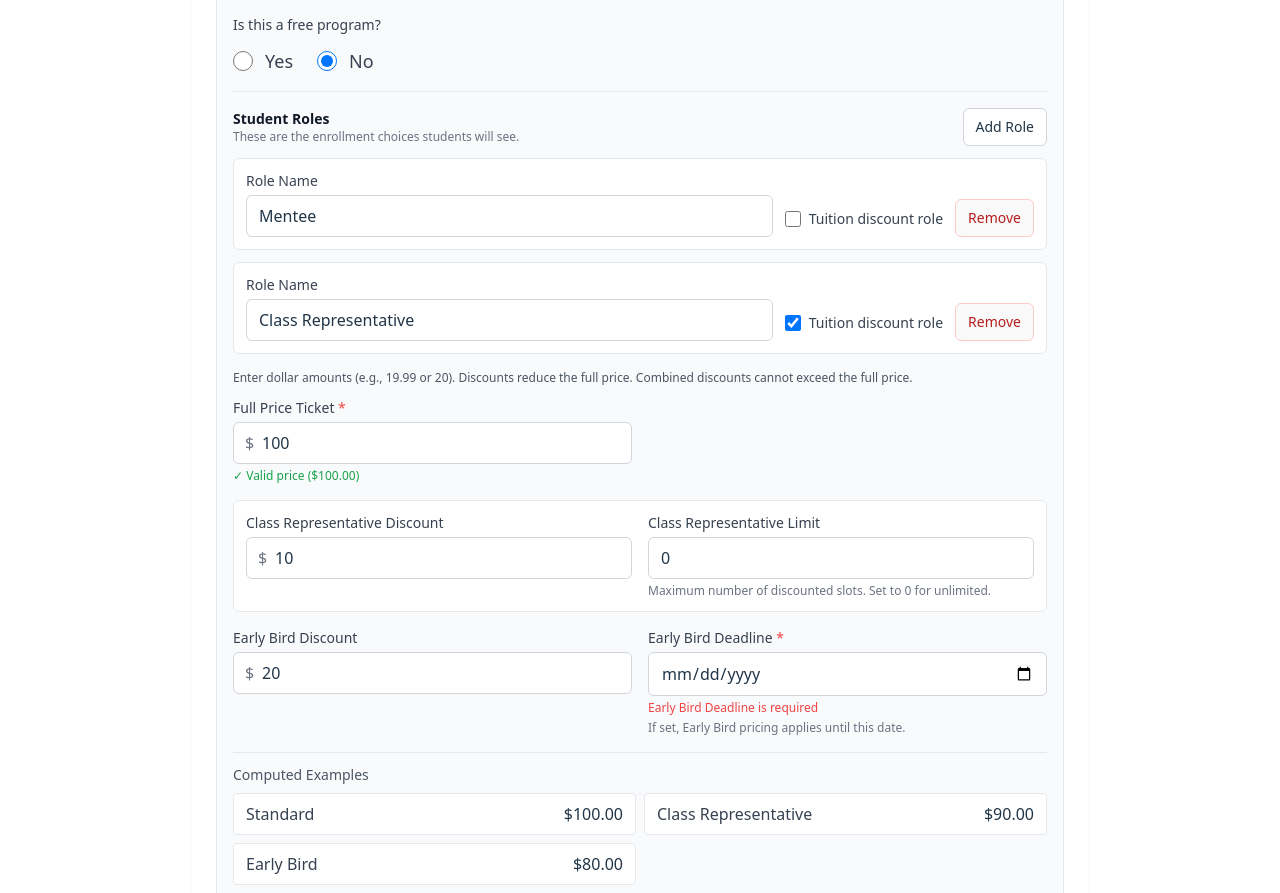
EditProgram - Pricing Confirmation › shows confirmation modal when pricing changes are detected
This screenshot has width=1280, height=893.
(page scrolled)
Replace the text in the number field labelled "Full Price Ticket *" with "150" at x=432, y=443, box [233, 422, 632, 464]
(page scrolled)
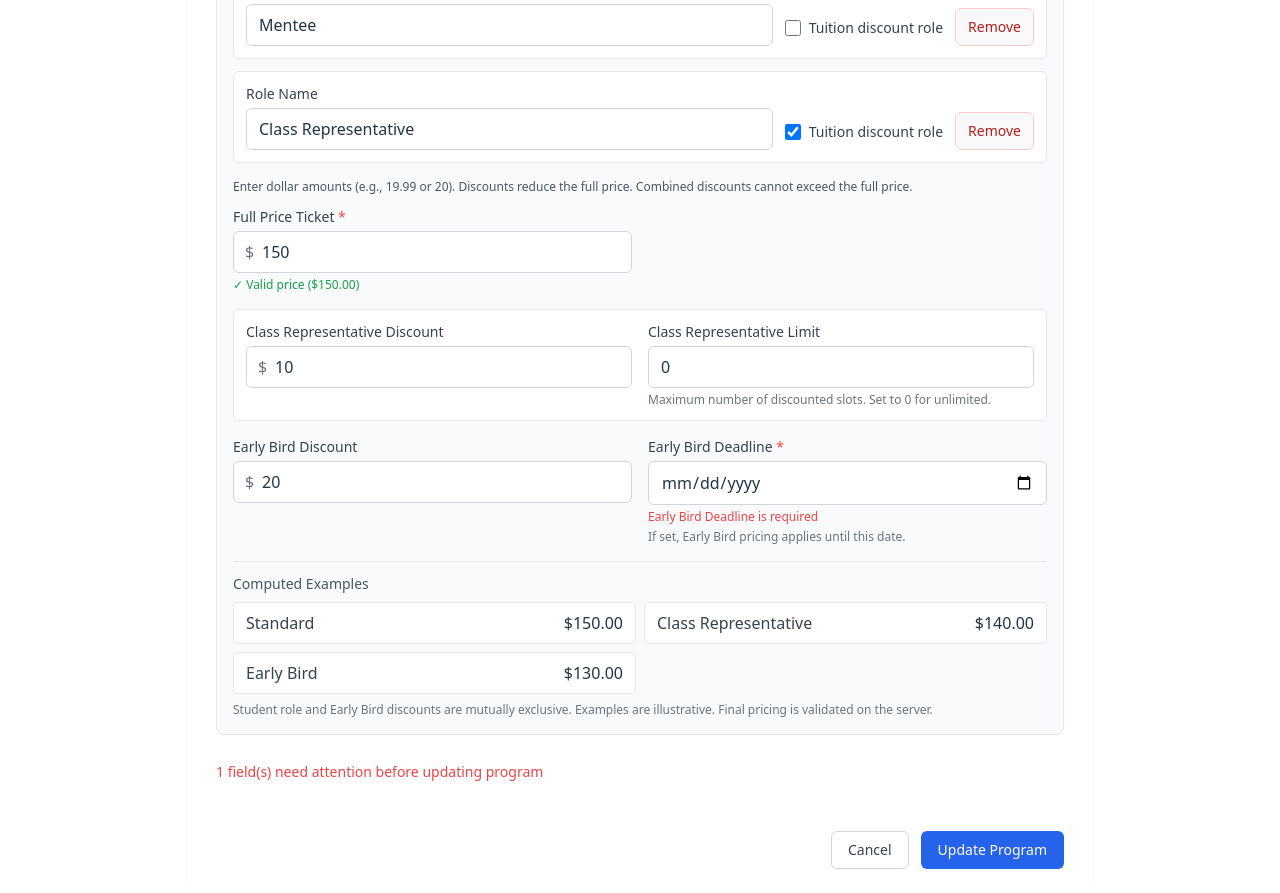
Click the button "Update Program".
click(992, 850)  # box [921, 831, 1064, 869]
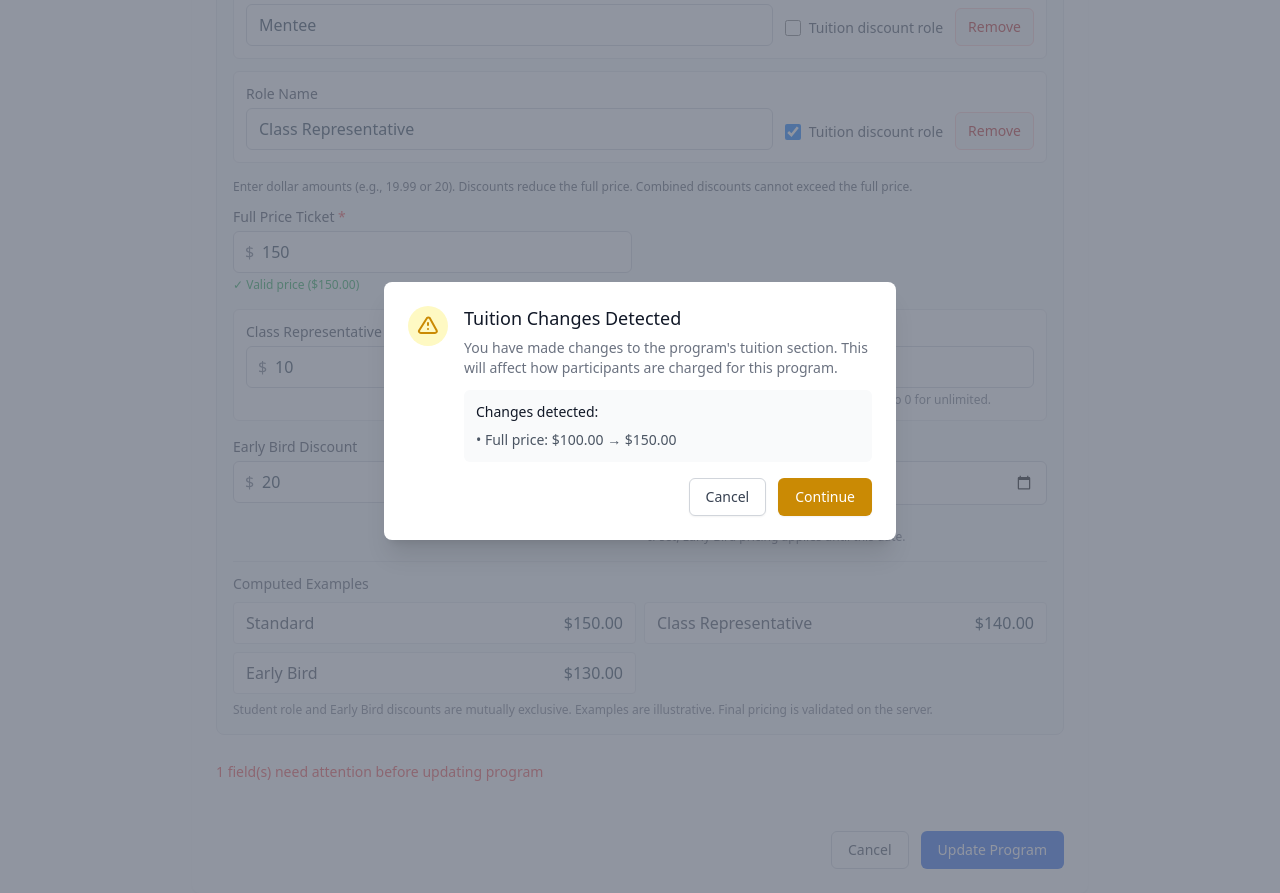
Now the heading "Tuition Changes Detected" is shown, box [464, 306, 681, 330]
Now the text "You have made changes to the program's tuition section" is shown, box [464, 338, 868, 377]
